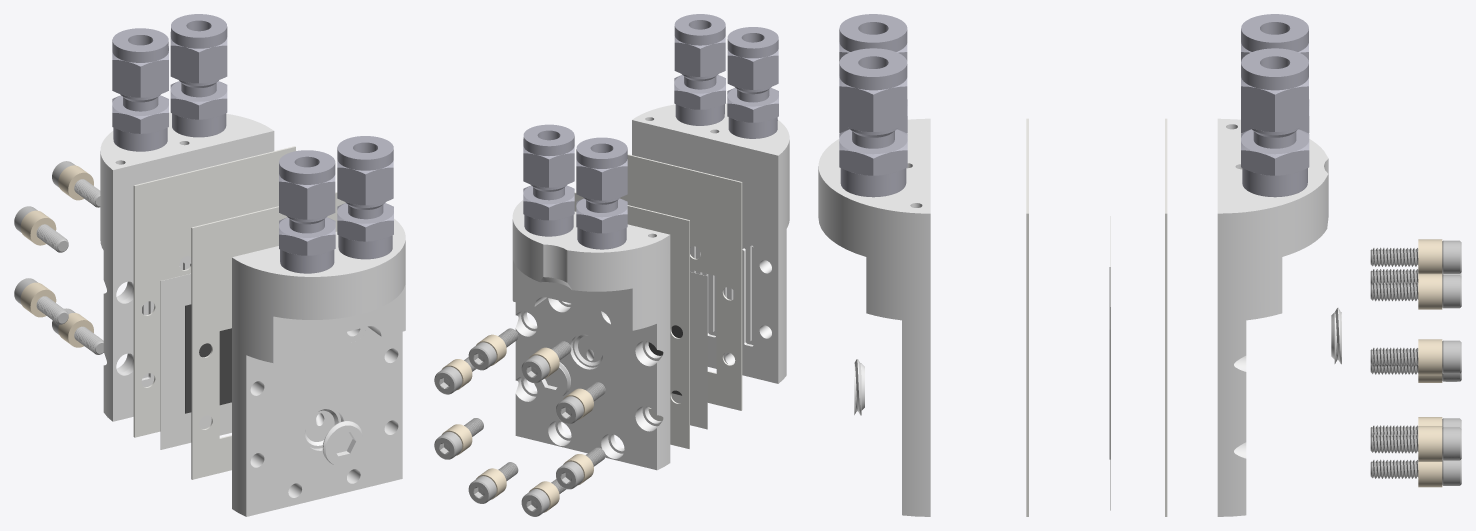
File: pefc-explosion.glb
3 views of the same model, side by side, from view 1: azimuth 30°, elevation 25°; view 2: azimuth 150°, elevation 25°; view 3: azimuth 270°, elevation 25° (orthographic). The views are drawn at different scales.
Visible parts, largest first — view 1: Body1.014, Body2.001, Body1, Body1.017, Body1.011, Body1.010, Body1.012, Body1.013, Body1.018, Body3.001, Body1.015, Body1.005 (+7 smaller); view 2: Body1, Body1.014, Body1.017, Body1.010, Body1.011, Body1.013, Body1.012, Body2.001, Body1.018, Body1.003, Body1.008, Body1.002 (+6 smaller); view 3: Body1, Body1.014, Body1.012, Body1.011, Body1.013, Body1.010, Body1.004, Body1.001, Body1.007, Body1.008, Body1.002, Body1.017 (+6 smaller).
Boxes of the visible parts, left/top/right/bottom form: Body1.014: left=232, top=219, right=405, bottom=516; Body2.001: left=133, top=146, right=295, bottom=437; Body1: left=100, top=112, right=274, bottom=421; Body1.017: left=191, top=192, right=345, bottom=479; Body1.011: left=170, top=14, right=227, bottom=137; Body1.010: left=112, top=28, right=168, bottom=151; Body1.012: left=337, top=136, right=393, bottom=259; Body1.013: left=279, top=150, right=335, bottom=273; Body1.018: left=160, top=273, right=231, bottom=449; Body3.001: left=185, top=304, right=231, bottom=413; Body1.015: left=322, top=421, right=362, bottom=465; Body1.005: left=14, top=206, right=68, bottom=252; Body1: left=512, top=200, right=670, bottom=470; Body1.014: left=632, top=103, right=789, bottom=383; Body1.017: left=620, top=154, right=742, bottom=410; Body1.010: left=576, top=137, right=627, bottom=249; Body1.011: left=523, top=124, right=574, bottom=236; Body1.013: left=727, top=27, right=778, bottom=138; Body1.012: left=674, top=14, right=725, bottom=125; Body2.001: left=574, top=192, right=689, bottom=448; Body1.018: left=671, top=272, right=707, bottom=429; Body1.003: left=556, top=447, right=605, bottom=489; Body1.008: left=521, top=341, right=571, bottom=383; Body1.002: left=468, top=462, right=518, bottom=503; Body1: left=1217, top=118, right=1328, bottom=516; Body1.014: left=818, top=118, right=930, bottom=516; Body1.012: left=839, top=48, right=907, bottom=197; Body1.011: left=1241, top=48, right=1309, bottom=197; Body1.013: left=839, top=14, right=907, bottom=132; Body1.010: left=1241, top=14, right=1309, bottom=133; Body1.004: left=1370, top=340, right=1461, bottom=373; Body1.001: left=1370, top=427, right=1461, bottom=460; Body1.007: left=1370, top=275, right=1461, bottom=308; Body1.008: left=1370, top=240, right=1461, bottom=273; Body1.002: left=1370, top=459, right=1461, bottom=485; Body1.017: left=1026, top=118, right=1028, bottom=516.
Size of the model in its own units: 47 by 97.85 by 135.
